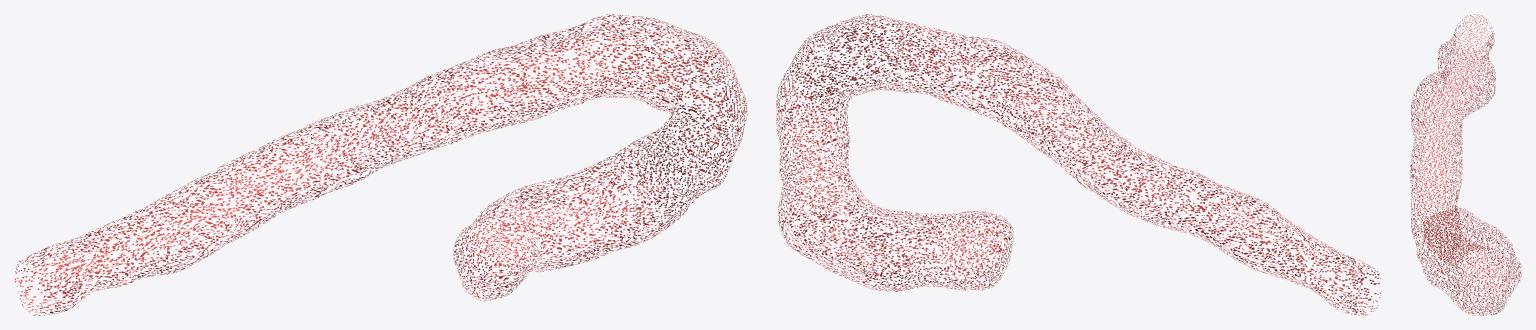
Rendered from aorta.glb.
3 renders of one model, left to right at view 1: azimuth 30°, elevation 25°; view 2: azimuth 150°, elevation 25°; view 3: azimuth 270°, elevation 25°, orthographic. The views are drawn at different scales.
Size of the model in its own units: 261 by 97.13 by 52.34.
